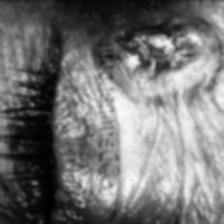Potentially Malignant Skin Tumors: (137, 25, 198, 64)
